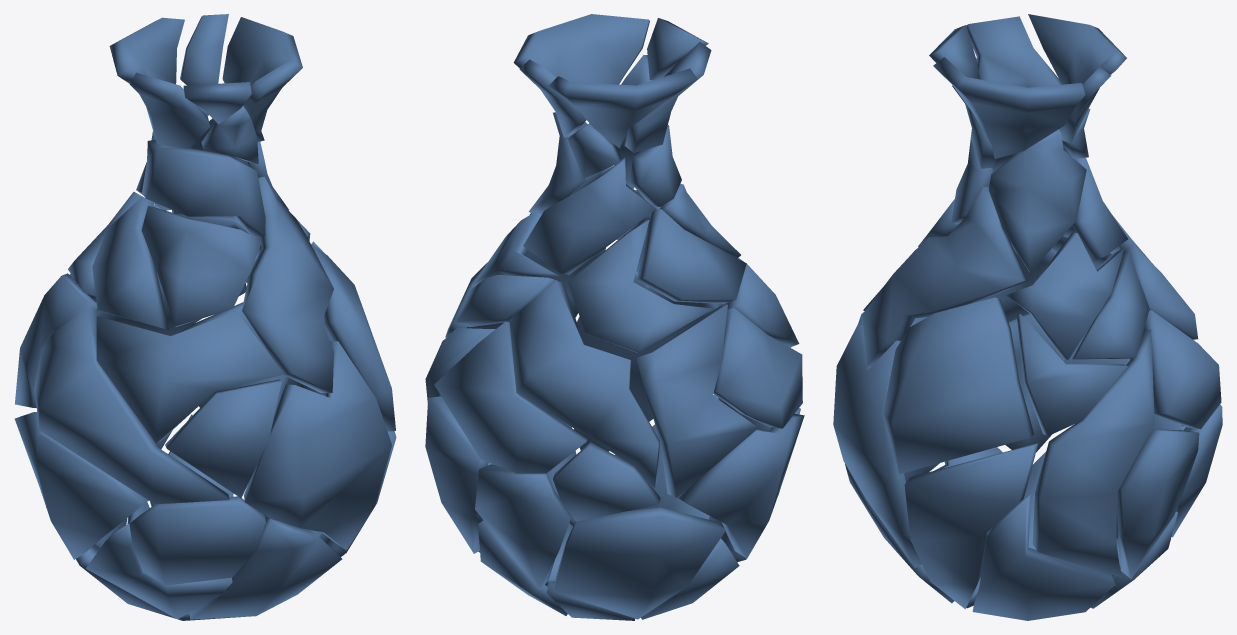
File: Vase_Broken.FBX
3 renders of one model, left to right at view 1: azimuth 30°, elevation 25°; view 2: azimuth 150°, elevation 25°; view 3: azimuth 270°, elevation 25°, orthographic.
Visible parts, largest first — view 1: Vase_Broken; view 2: Vase_Broken; view 3: Vase_Broken.
Boxes of the visible parts, x1,y1,x2,y2 form: Vase_Broken: [14, 14, 396, 620]; Vase_Broken: [425, 14, 804, 620]; Vase_Broken: [833, 14, 1222, 620].
Bounding box in the file's own units: 50.62 × 76.71 × 50.74.
1 material, 1 textured.
